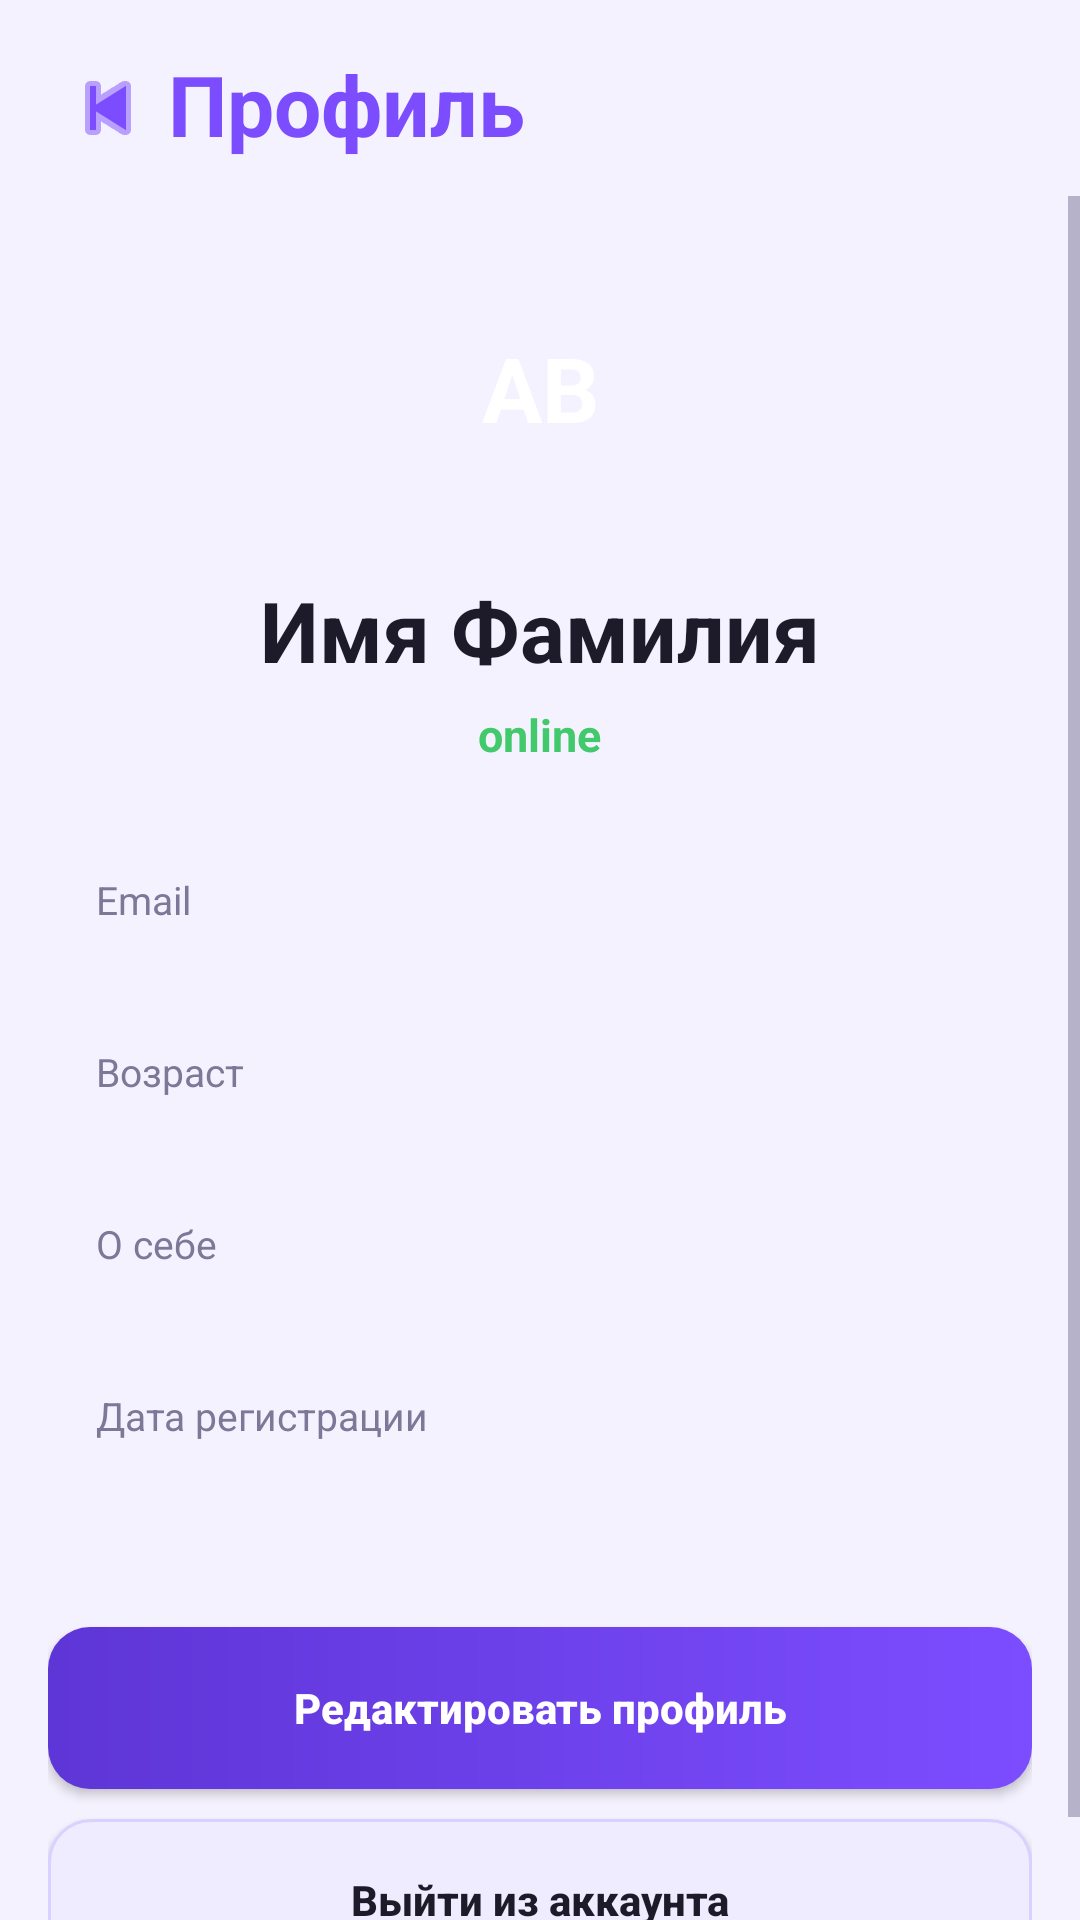

Icons on this 1080px x 1920px Android screen, each with the point to tap as [x,y]:
Назад: [108,108]
